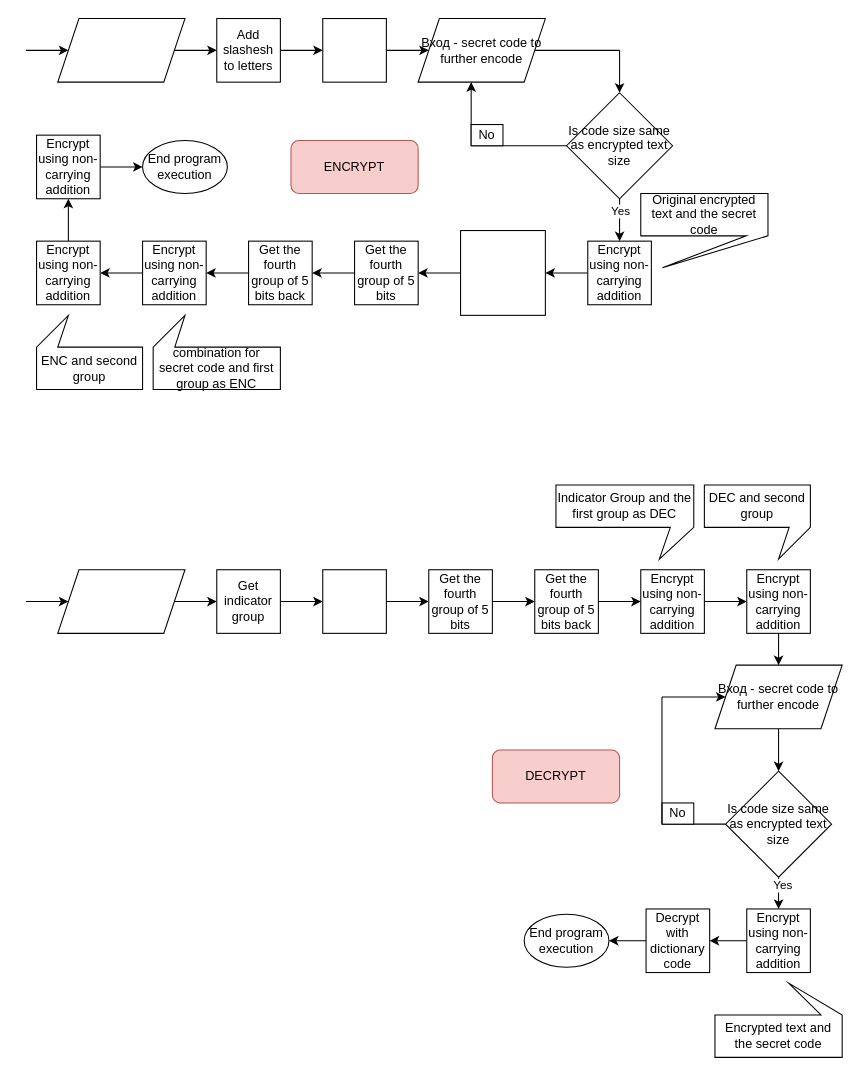
Image size: 861x1076. Some labels were removed from this diagram. Here are the shapes that lost their labels. From the top down, the centre of each, then its label:
the point at 121,49: Вход - message to Encrypt
the point at 354,49: Encrypt with dictionary code
the point at 502,272: Choose the combination from which the secret code was taken
the point at 121,601: Вход - message to Decrypt
the point at 354,601: Get Encrypted part
